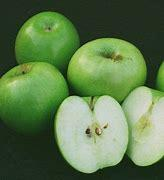apple: (51, 88, 130, 171), (63, 34, 151, 103), (2, 64, 71, 141), (17, 10, 78, 72), (118, 87, 164, 166)
